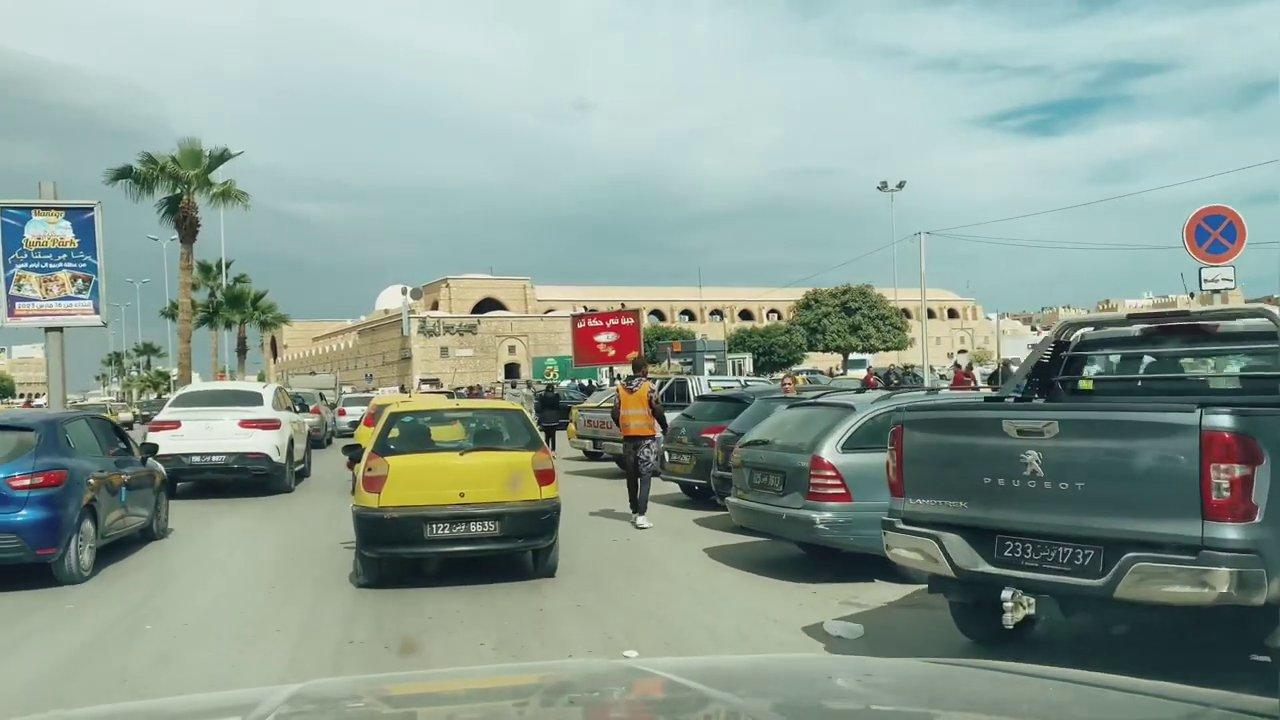no stopping: (1178, 199, 1249, 265)
